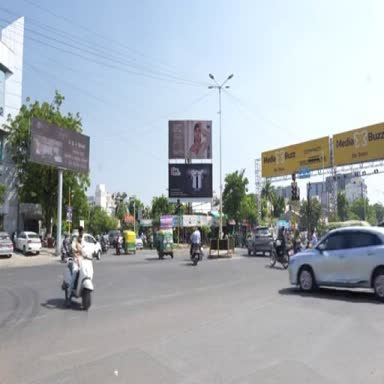Car: (289, 226, 383, 301), (248, 226, 274, 256), (15, 232, 41, 256), (83, 233, 101, 260), (0, 232, 14, 258), (108, 231, 119, 247), (135, 235, 143, 249)
